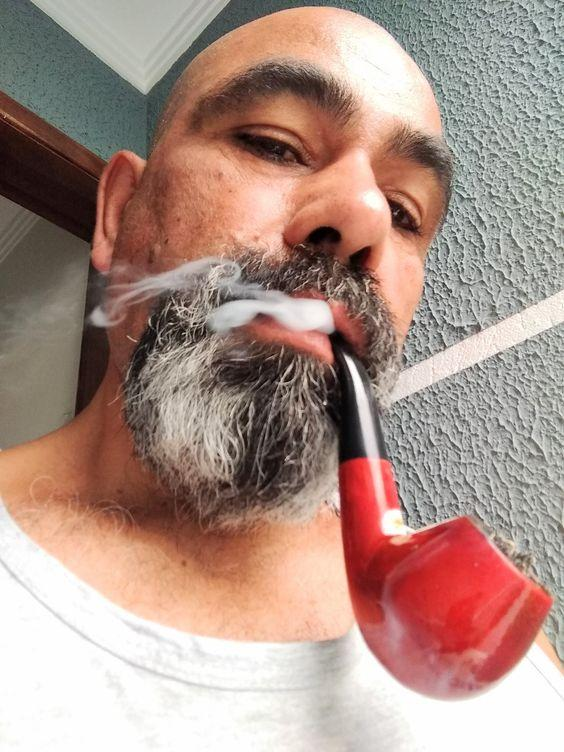trubka: (332, 336, 551, 699)
